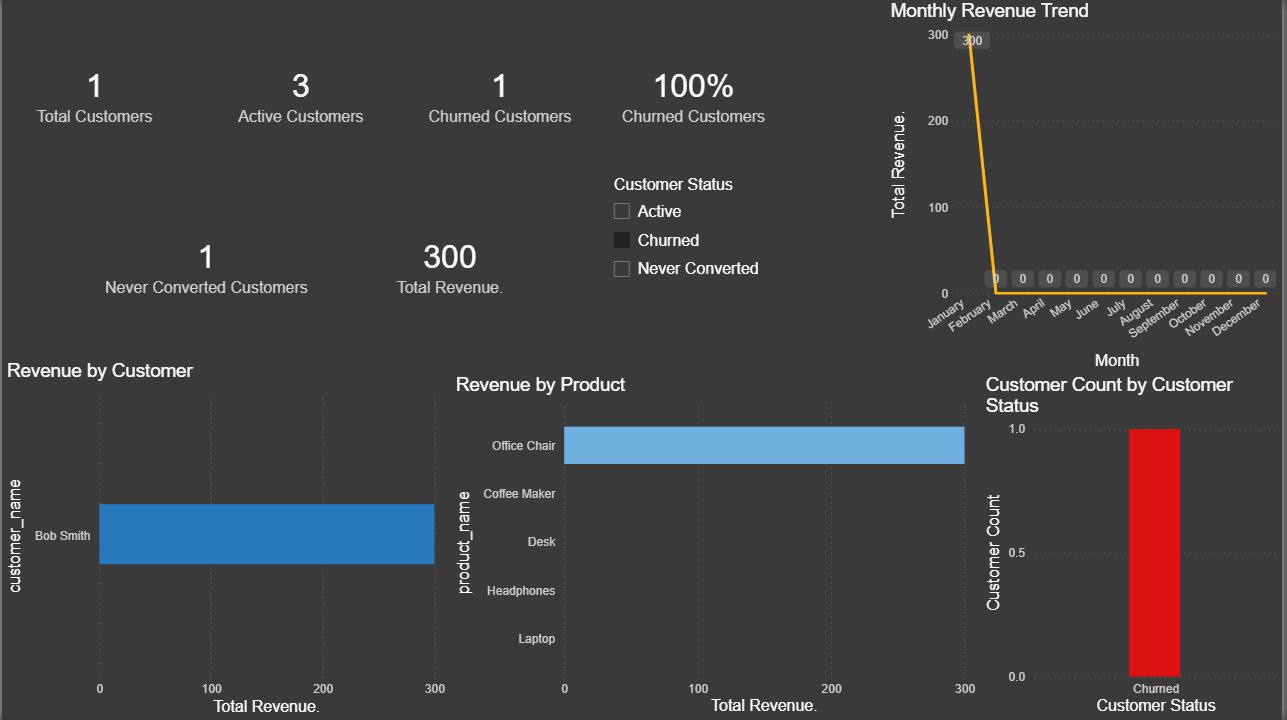

The dashboard page shown, as its layout file describes it:
{"tool":"powerbi","page":{"name":"Page 1","canvas":[1280,720],"ordinal":0},"visuals":[{"type":"lineChart","title":"Monthly Revenue Trend","fields":{"Category":["public orders.order_date.Variation.Date Hierarchy.Month"],"Y":["public customers.Total Revenue."]},"box":[884.3,0,395.7,374.3],"z":0},{"type":"card","fields":{"Values":["public customers.Total Revenue (Zero)"]},"box":[347.1,171.4,201.4,187.1],"z":1000},{"type":"clusteredBarChart","title":"Revenue by Customer","fields":{"Category":["public customers.customer_name"],"Y":["public customers.Total Revenue."]},"box":[0,360,448.6,360],"z":2000},{"type":"clusteredBarChart","title":"Revenue by Product","fields":{"Category":["public products.product_name"],"Y":["public customers.Total Revenue."]},"box":[448.6,374.3,530,345.7],"z":3000},{"type":"slicer","fields":{"Values":["public customers.Customer Status"]},"box":[598.6,171.4,285.7,170],"z":4000},{"type":"card","fields":{"Values":["public customers.Active Customers"]},"box":[201.4,0,195.7,187.1],"z":5000},{"type":"card","fields":{"Values":["public customers.Churned Customers"]},"box":[397.1,0,201.4,187.1],"z":6000},{"type":"card","fields":{"Values":["public customers.Never Converted Customers"]},"box":[92.9,187.1,224.3,154.3],"z":7000},{"type":"card","title":"Churn Rate (Based on Last 60 Days)","fields":{"Values":["public customers.Churned Customers"]},"box":[598.6,20,185.7,147.1],"z":8000},{"type":"card","fields":{"Values":["public customers.Total Customers"]},"box":[0,0,185.7,187.1],"z":9000},{"type":"clusteredColumnChart","fields":{"Category":["public customers.Customer Status"],"Y":["public customers.Customer Count"]},"box":[978.6,374.3,301.4,345.7],"z":10000}]}

Visuals, with their boxes in screenshot pixels (x1, y1, x2, y2), scaled from the page's 1280x720 canvas onto the 1287x720 screenshot:
"Monthly Revenue Trend" lineChart: {"left": 889, "top": 0, "right": 1286, "bottom": 374}
card - public customers.Total Revenue (Zero): {"left": 349, "top": 171, "right": 551, "bottom": 358}
"Revenue by Customer" clusteredBarChart: {"left": 0, "top": 360, "right": 451, "bottom": 719}
"Revenue by Product" clusteredBarChart: {"left": 451, "top": 374, "right": 984, "bottom": 719}
slicer - public customers.Customer Status: {"left": 602, "top": 171, "right": 889, "bottom": 341}
card - public customers.Active Customers: {"left": 203, "top": 0, "right": 399, "bottom": 187}
card - public customers.Churned Customers: {"left": 399, "top": 0, "right": 602, "bottom": 187}
card - public customers.Never Converted Customers: {"left": 93, "top": 187, "right": 319, "bottom": 341}
"Churn Rate (Based on Last 60 Days)" card: {"left": 602, "top": 20, "right": 789, "bottom": 167}
card - public customers.Total Customers: {"left": 0, "top": 0, "right": 187, "bottom": 187}
clusteredColumnChart - public customers.Customer Status x public customers.Customer Count: {"left": 984, "top": 374, "right": 1286, "bottom": 719}
